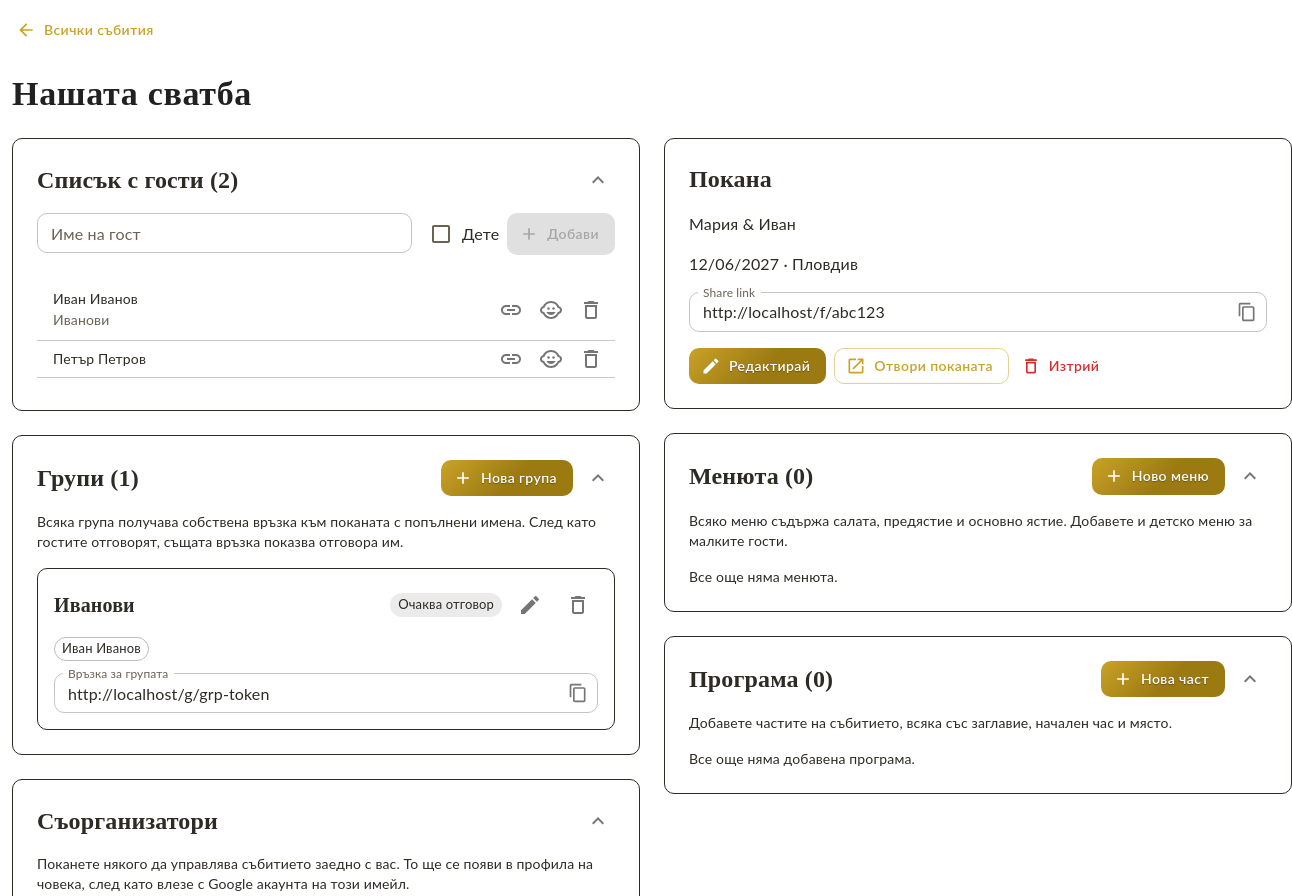
it: EventPage › marks an existing guest as a child
Click the button named "Петър Петров е дете" at (551, 358), box [531, 338, 571, 378]
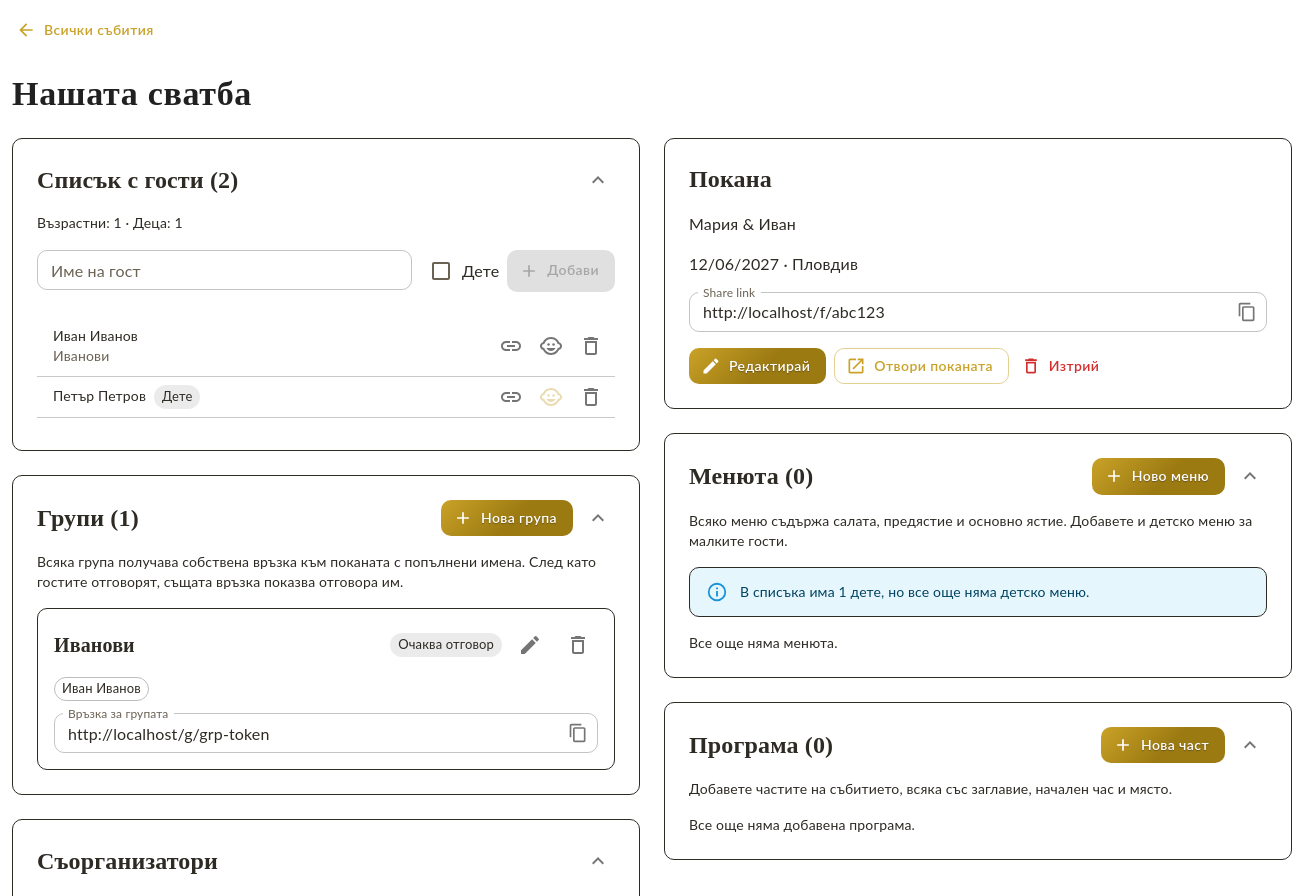
Expected: the text "Възрастни: 1 · Деца: 1" is shown, [37, 214, 183, 232]
